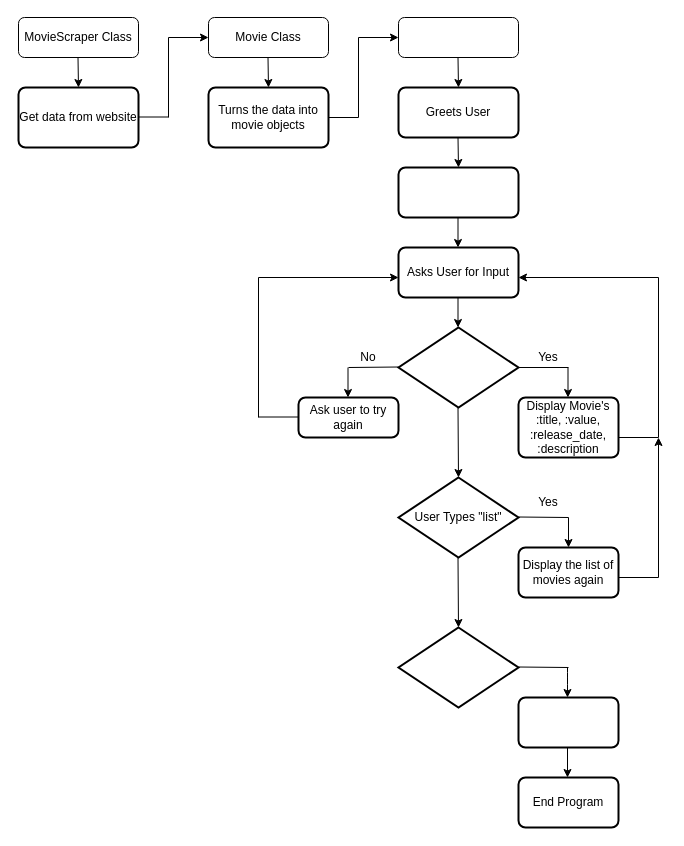
Some shapes in this 684 by 846 pixel diagram are drawn without their labels. Here are the shapes that lost their labels. From the top down, the centre of each, then its label:
point (458, 37): CLI Class
point (458, 192): Lists Movies
point (458, 367): Input > 0 && Input <= 50
point (458, 667): User Types "quit"
point (568, 722): Display Goodbye Message
